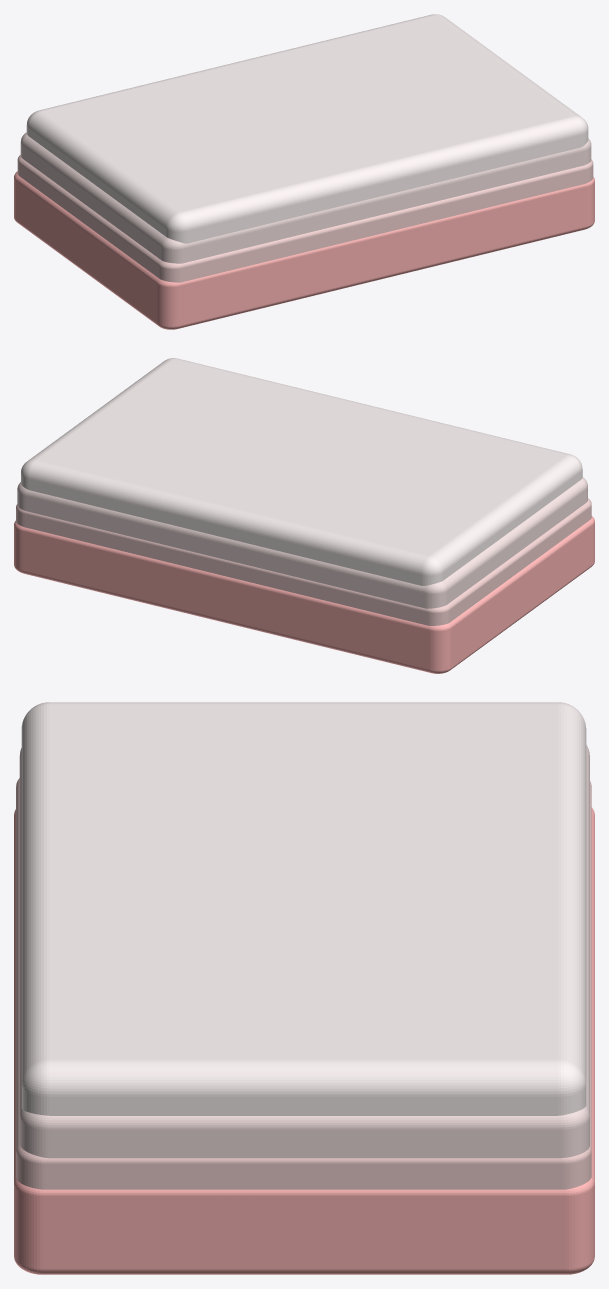
The model's file is boloretangulo cobertura ciasto.glb.
3 renders of one model, top to bottom at view 1: azimuth 30°, elevation 25°; view 2: azimuth 150°, elevation 25°; view 3: azimuth 270°, elevation 25°, orthographic. The views are drawn at different scales.
Visible parts, largest first — view 1: Cube.003, Cube.002, Cube.000, Cube.001; view 2: Cube.003, Cube.002, Cube.000, Cube.001; view 3: Cube.003, Cube.002, Cube.000, Cube.001.
Part boxes in pixels (<box>): Cube.003: <box>26,14,588,243</box>; Cube.002: <box>14,171,594,329</box>; Cube.000: <box>20,132,591,263</box>; Cube.001: <box>17,155,593,282</box>; Cube.003: <box>21,358,582,585</box>; Cube.002: <box>14,516,594,673</box>; Cube.000: <box>17,477,587,608</box>; Cube.001: <box>16,498,591,625</box>; Cube.003: <box>21,702,586,1115</box>; Cube.002: <box>14,807,594,1274</box>; Cube.000: <box>19,745,589,1158</box>; Cube.001: <box>16,778,591,1189</box>.
Bounding box in the file's own units: 3.43 × 0.8379 × 2.14.
